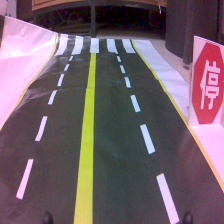stop: (190, 34, 224, 131)
